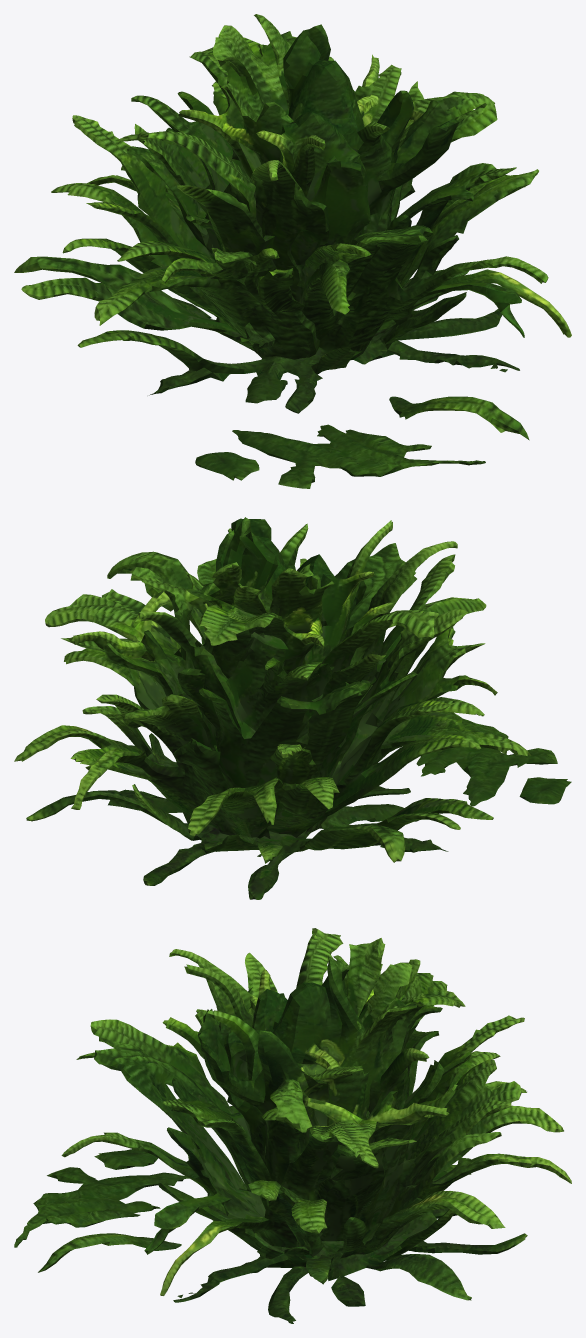
Rendered from observation-bush.glb.
3 renders of one model, top to bottom at view 1: azimuth 30°, elevation 25°; view 2: azimuth 150°, elevation 25°; view 3: azimuth 270°, elevation 25°, orthographic. The views are drawn at different scales.
Parts seen in each view (by area): view 1: Mesh0; view 2: Mesh0; view 3: Mesh0.
Boxes of the visible parts, x1,y1,x2,y2 form: Mesh0: [14, 14, 571, 488]; Mesh0: [14, 517, 571, 899]; Mesh0: [14, 928, 571, 1323].
Size of the model in its own units: 1.64 by 1.08 by 1.88.
Materials: 1 (1 with a texture image).
